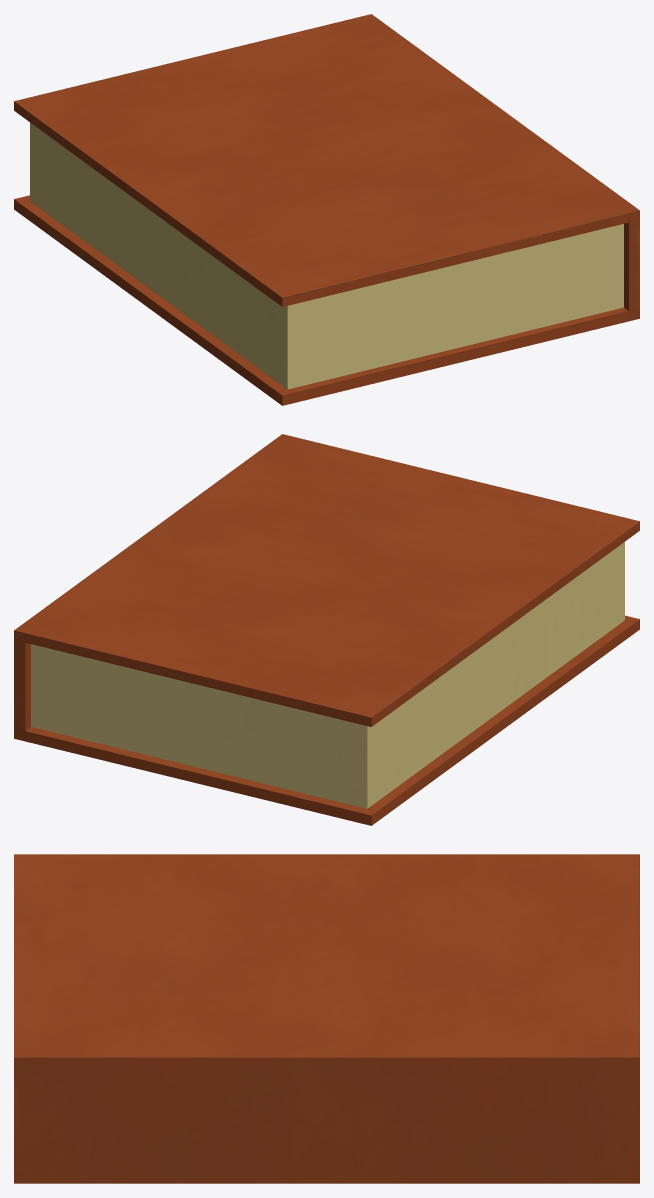
File: Book-001.glb
The picture shows the model from 3 angles, top to bottom: view 1: azimuth 30°, elevation 25°; view 2: azimuth 150°, elevation 25°; view 3: azimuth 270°, elevation 25°; orthographic projection. The views are drawn at different scales.
Visible parts, largest first — view 1: Book; view 2: Book; view 3: Book.
Boxes of the visible parts, <box> form: Book: <box>14,14,639,405</box>; Book: <box>14,434,639,825</box>; Book: <box>14,854,639,1183</box>.
Size of the model in its own units: 0.2058 by 0.0595 by 0.2676.
1 material, 1 textured.
